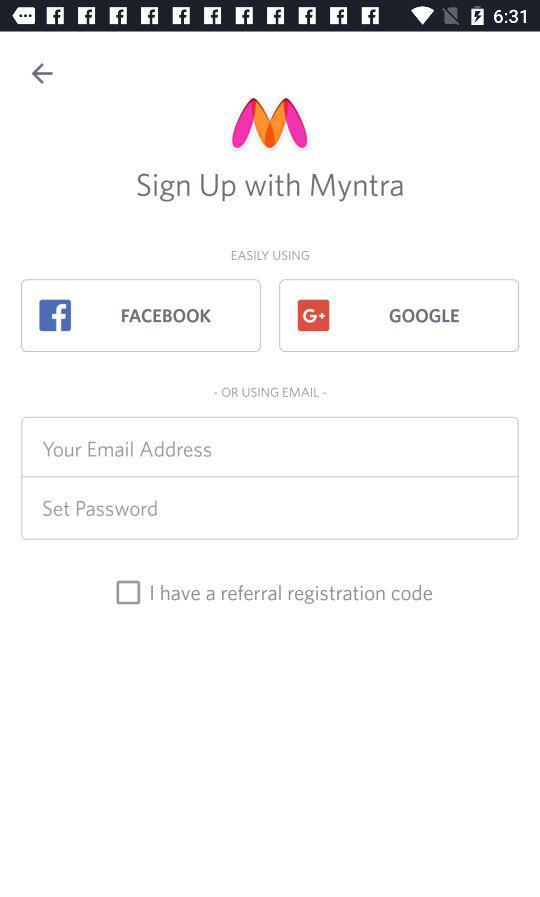CheckedTextView: (116, 580, 434, 606)
EditText: (22, 477, 519, 541), (22, 417, 519, 477)
Icon: (32, 64, 54, 85)
Image: (231, 98, 309, 152)
Text: (138, 173, 404, 203), (151, 583, 434, 605), (43, 441, 212, 458), (43, 500, 158, 517), (222, 387, 320, 399), (231, 250, 310, 262)
TextButton: (21, 279, 262, 353), (279, 279, 520, 353)
UpperTaskBar: (1, 1, 540, 33)
